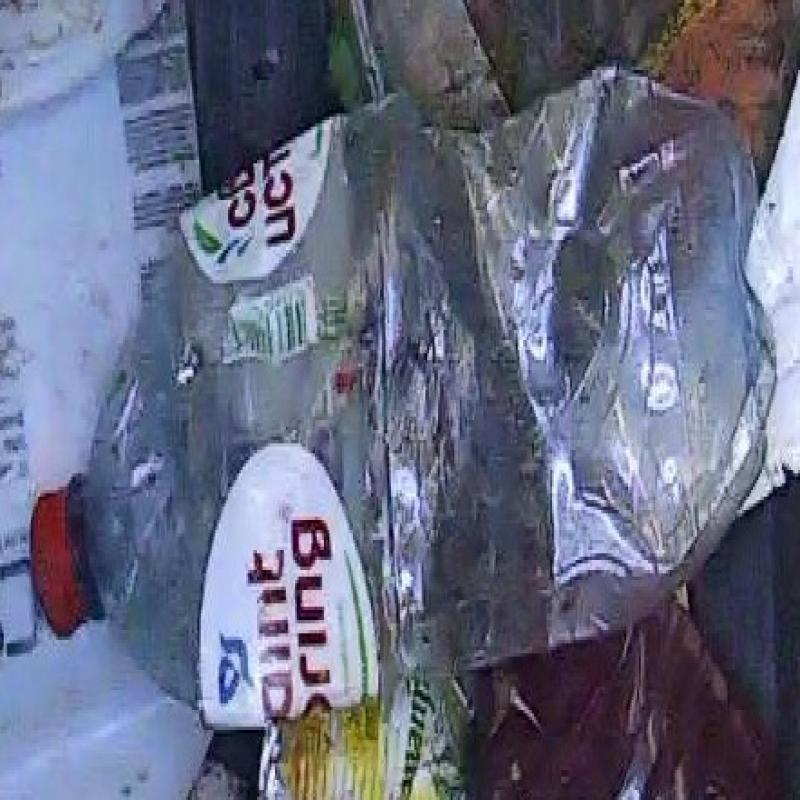botella: (35, 65, 781, 736)
